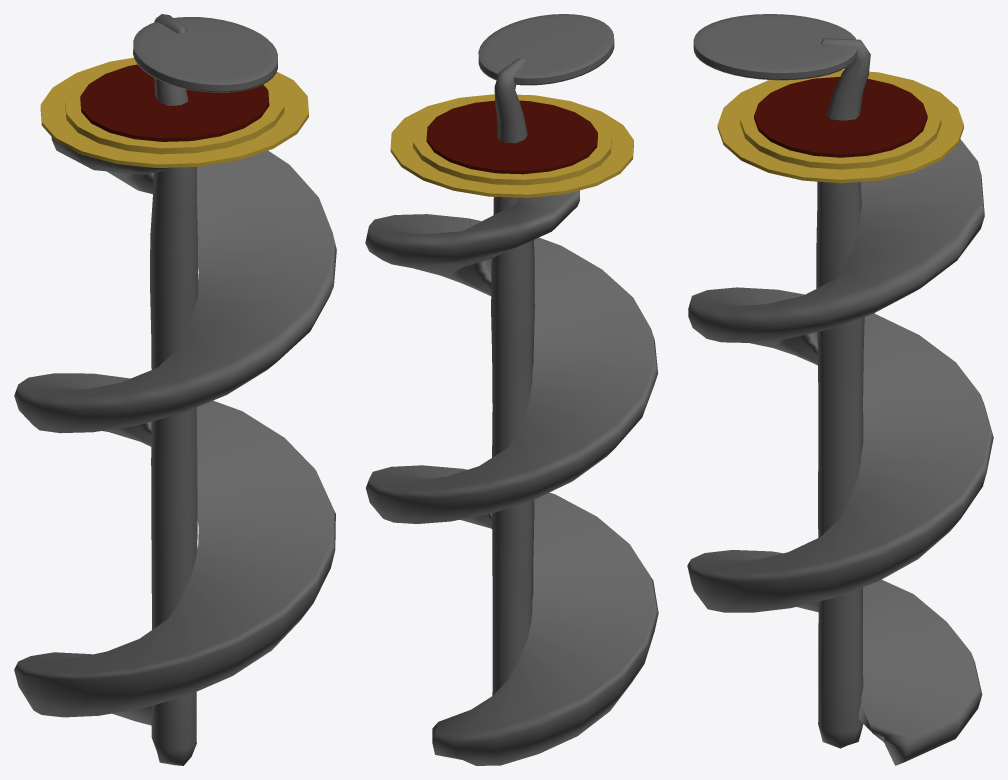
File: PlantGrowing2Low.fbx
3 views of the same model, side by side, from view 1: azimuth 30°, elevation 25°; view 2: azimuth 150°, elevation 25°; view 3: azimuth 270°, elevation 25° (orthographic). The views are drawn at different scales.
Parts seen in each view (by area): view 1: Plant32; view 2: Plant32; view 3: Plant32.
Part boxes in pixels (bbox=[...]): Plant32: bbox=[14, 14, 336, 765]; Plant32: bbox=[365, 14, 658, 765]; Plant32: bbox=[687, 14, 993, 765].
Size of the model in its own units: 2.83 by 7.21 by 2.83.
